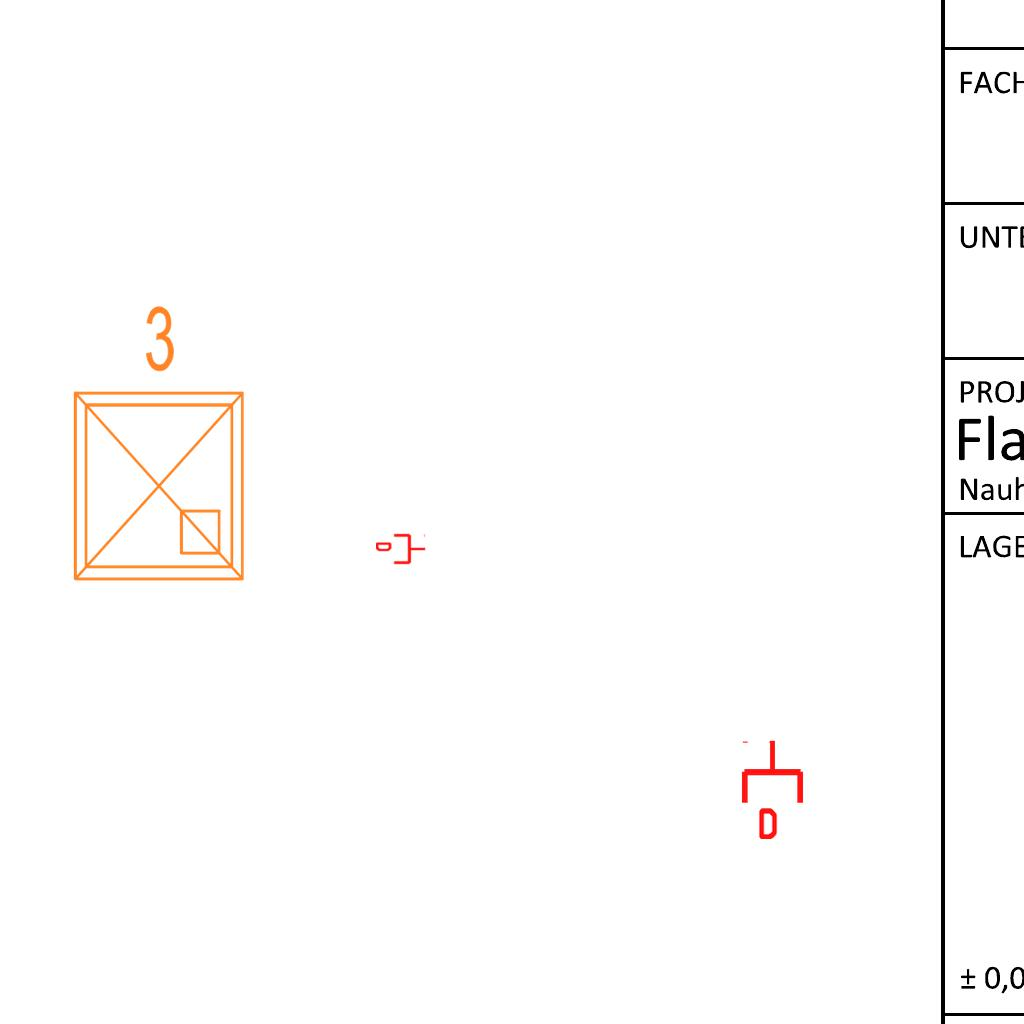Datenanschluss_einfach: (738, 739, 807, 839), (376, 532, 426, 566)
Einbaudownlights_LED_Konferenzraeume: (51, 295, 259, 595)
